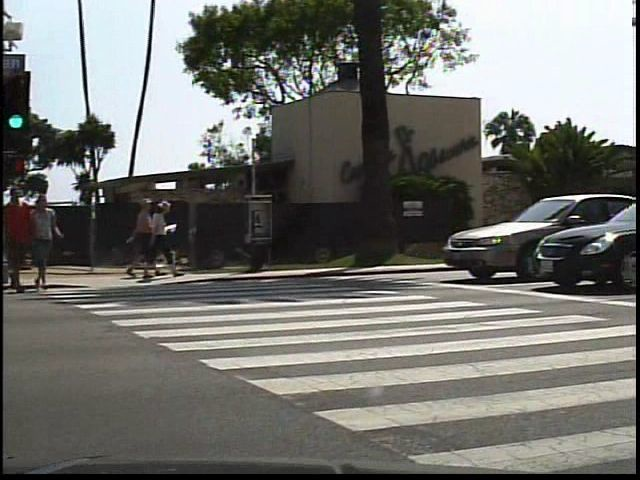person: (10, 190, 49, 298), (36, 195, 76, 295)
